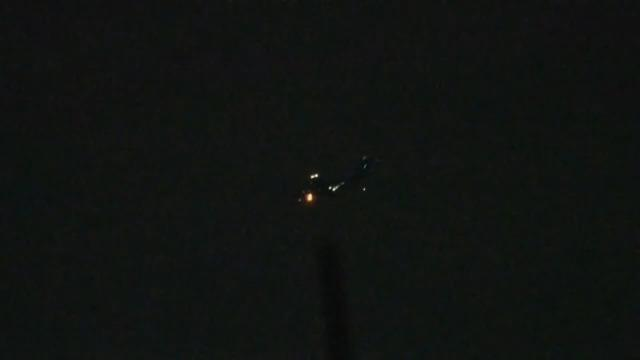Plane: (263, 151, 368, 222)
